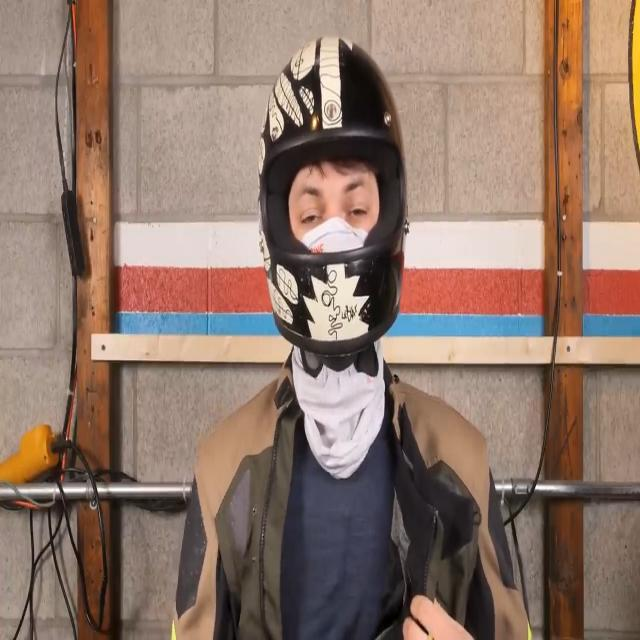Helmet_Wearer: (250, 28, 416, 385)
Person: (175, 27, 564, 640)
